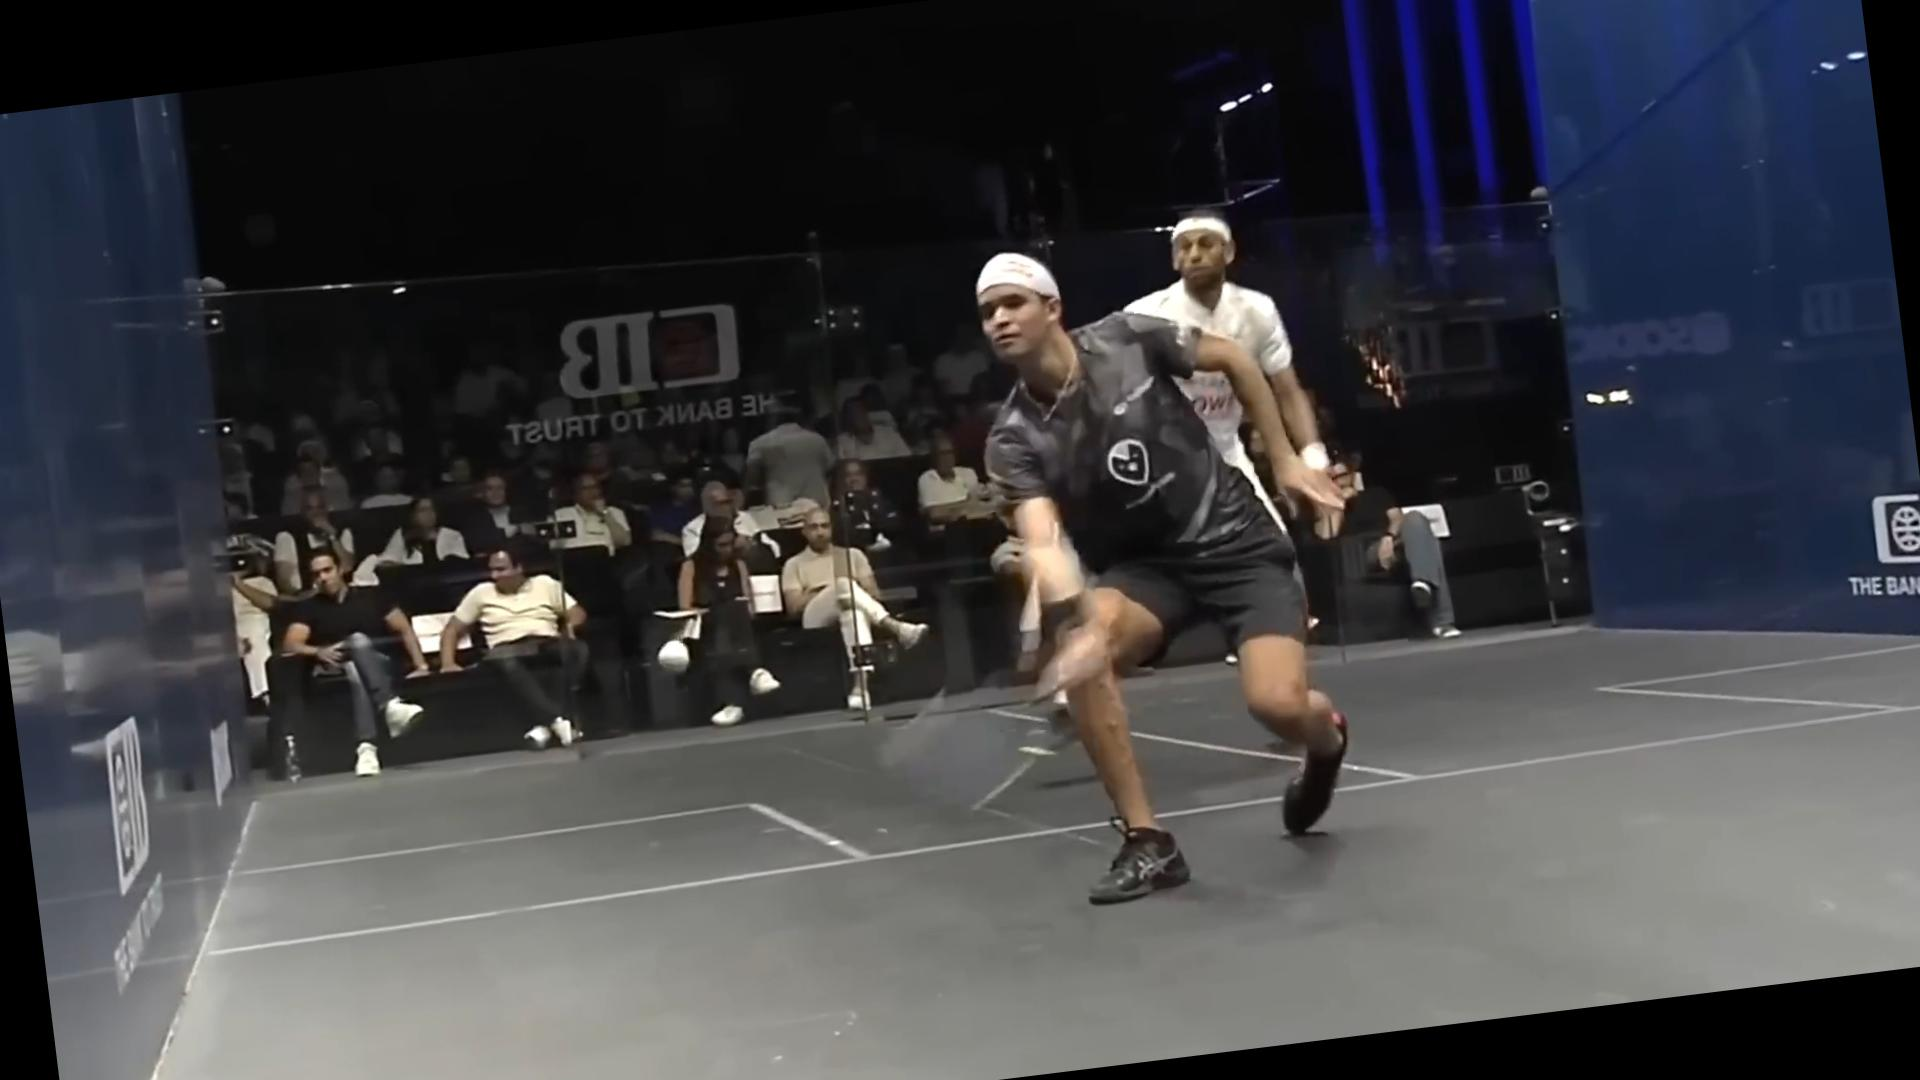Squash-Ball: (621, 609, 720, 696)
